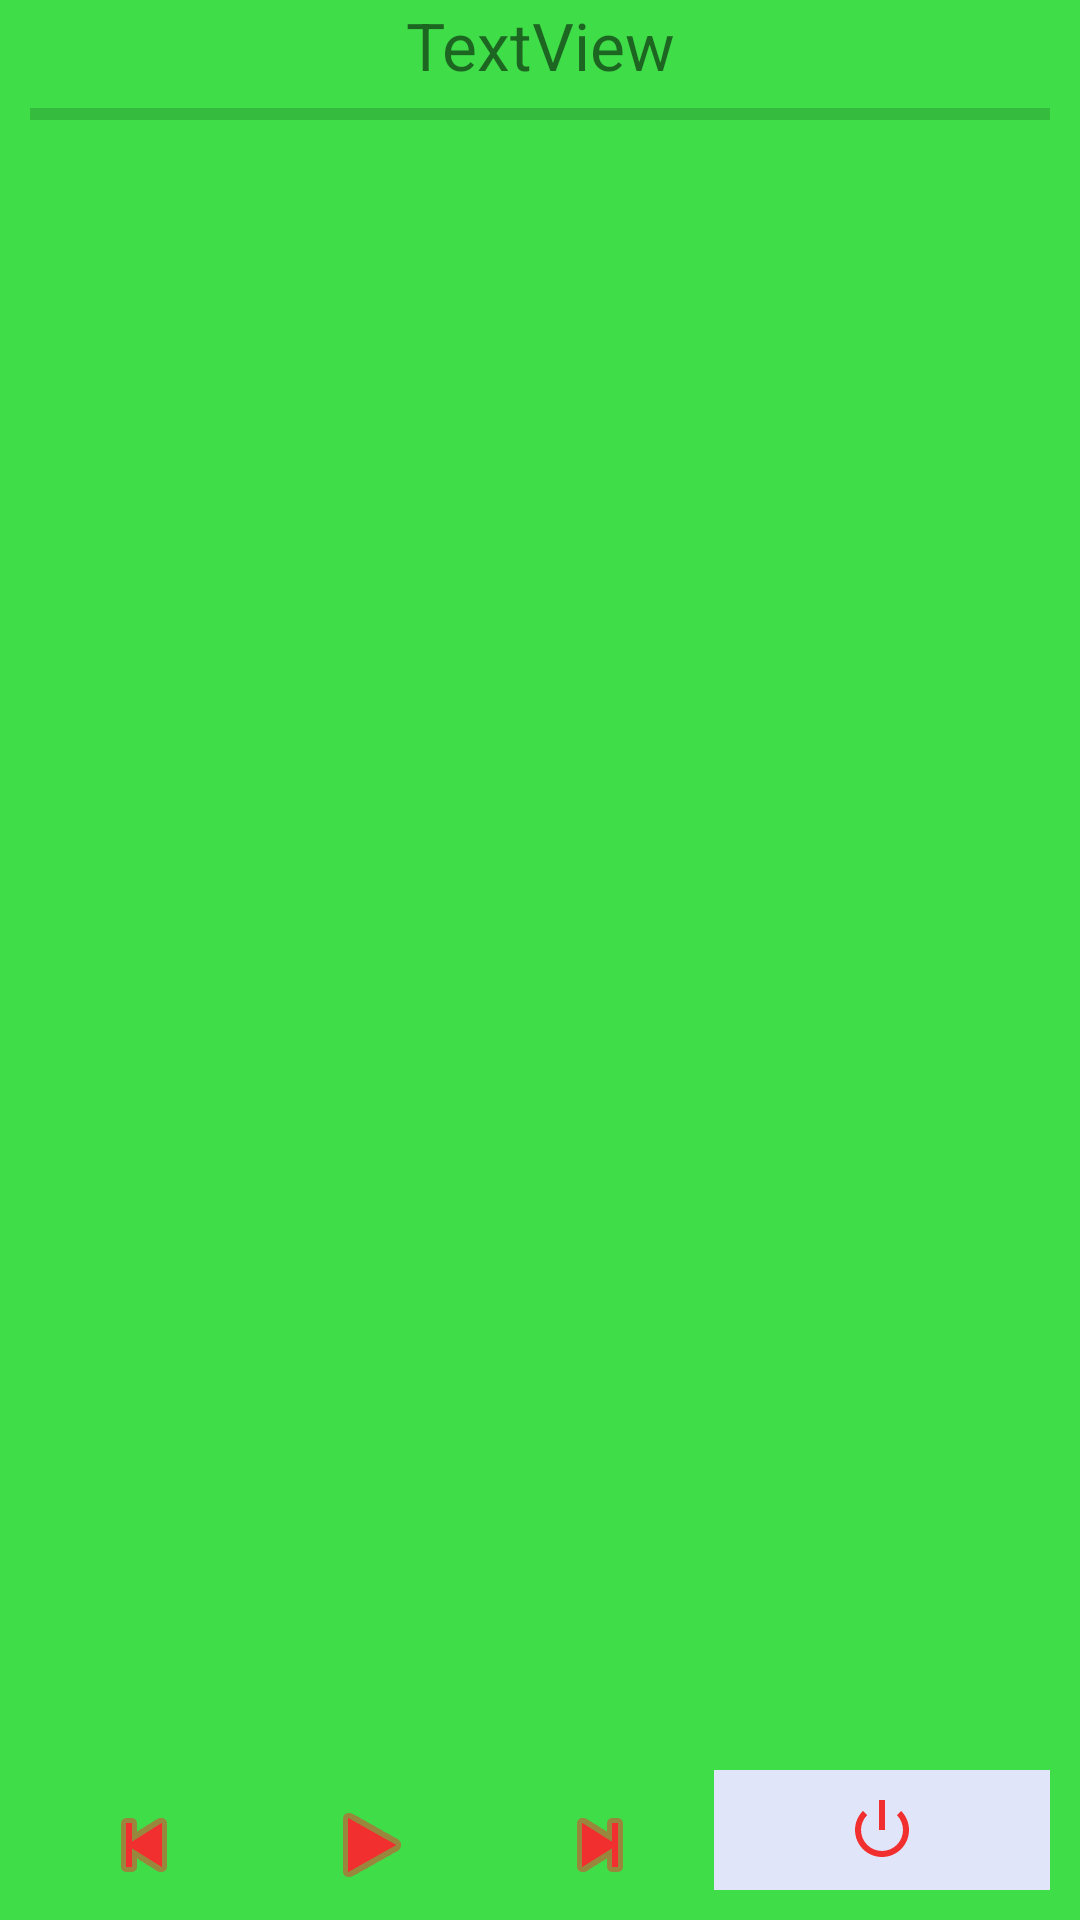

Point at icon controls on the screen. Image size 1080px×1920px, points as (x,y).
lock power off: (882,1830)
next: (600,1845)
play: (372,1845)
previous: (144,1845)
